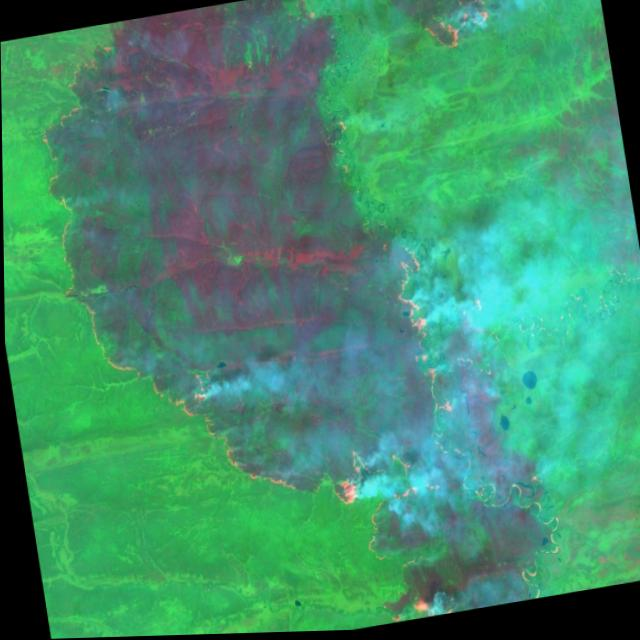fire: (22, 0, 601, 639)
